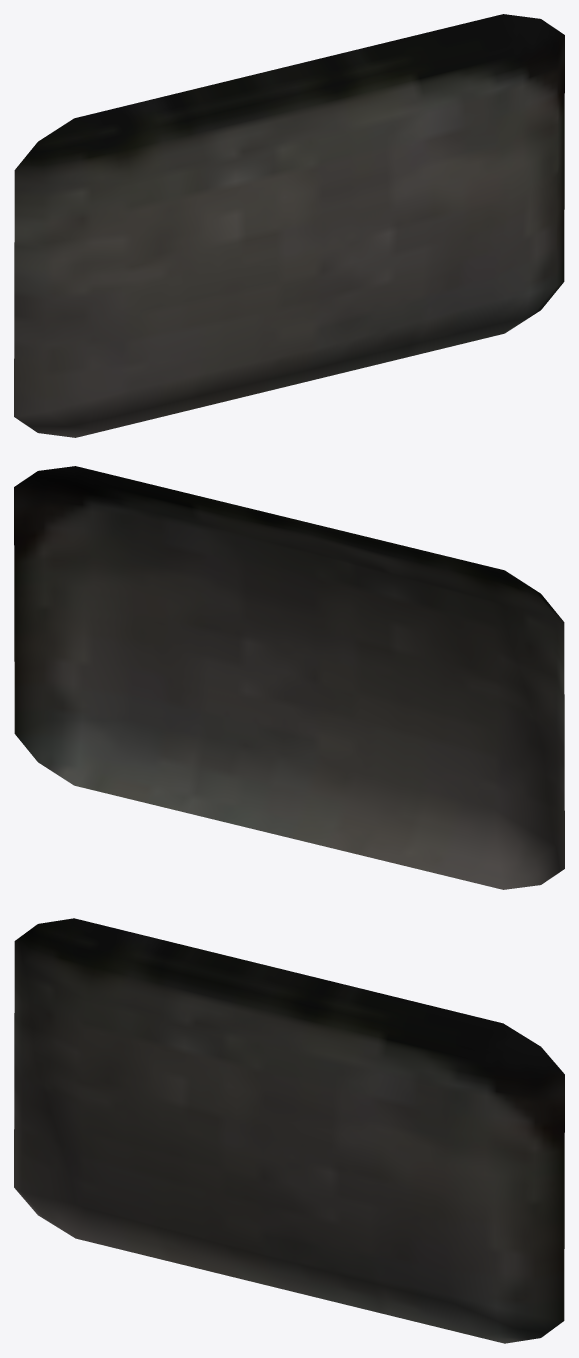
The model's file is headlight.glb.
The picture shows the model from 3 angles, top to bottom: view 1: azimuth 30°, elevation 25°; view 2: azimuth 150°, elevation 25°; view 3: azimuth 330°, elevation 25°; orthographic projection.
Parts seen in each view (by area): view 1: Headlight; view 2: Headlight; view 3: Headlight.
Part boxes in pixels (x1=…): Headlight: x1=14, y1=14, x2=564, y2=437; Headlight: x1=14, y1=466, x2=564, y2=889; Headlight: x1=14, y1=918, x2=564, y2=1343.
Bounding box in the file's own units: 0.2608 × 0.1449 × 0.0253.
Materials: 1 (1 with a texture image).
